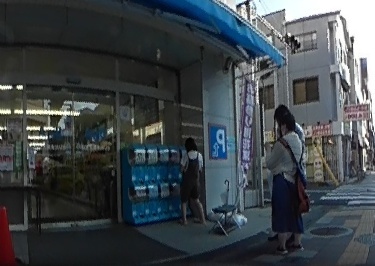person: (269, 103, 307, 252), (178, 136, 207, 228)
